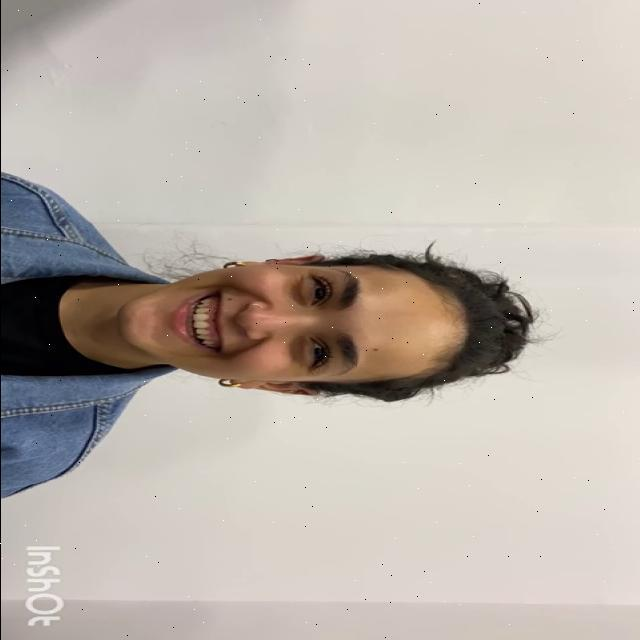happy: (119, 262, 462, 384)
